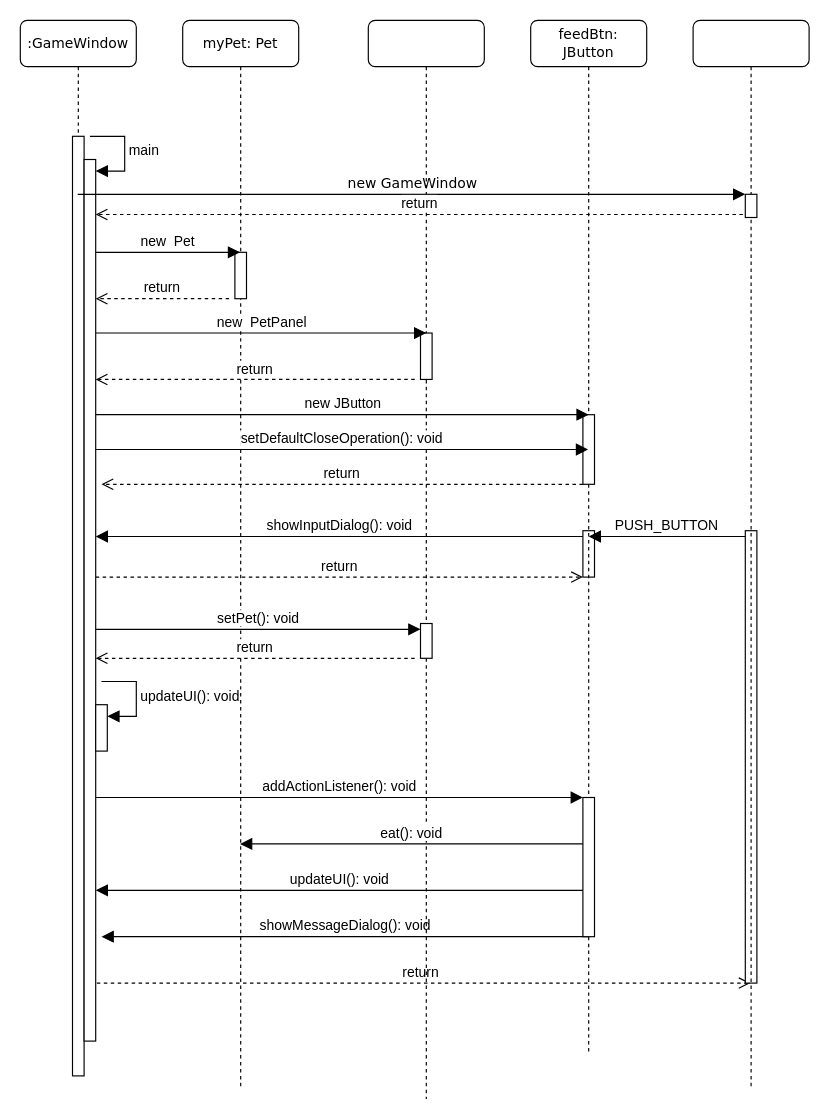
Image size: 829x1119. Some labels were removed from this diagram. The shapes that lost their labels are listed below. From the top down, each one's box as (x1, y1, x2, y2) in pixels, then its label:
(367, 19, 484, 1099): panel: petPanel
(692, 19, 809, 1088): Actor
